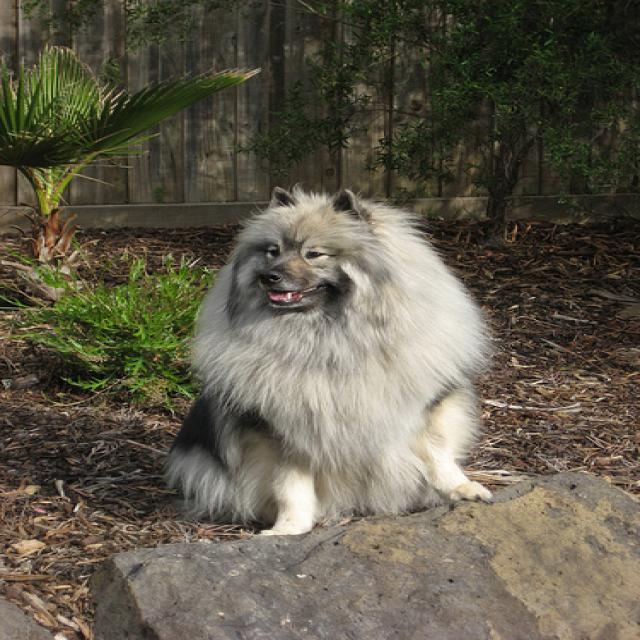dog-keeshond: (145, 175, 502, 552)
